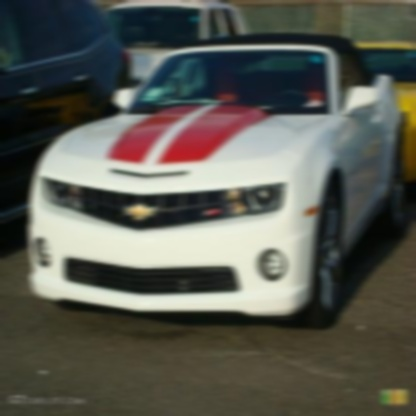Vehicle: (23, 35, 408, 329)
